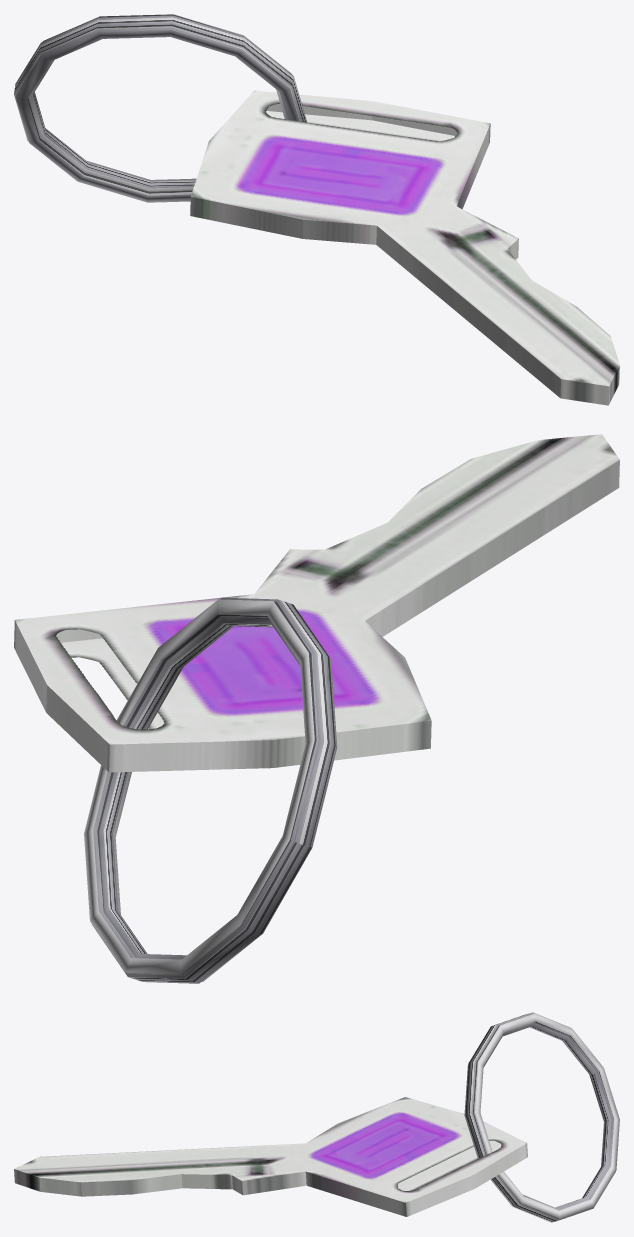
File: key_square2.fbx
3 views of the same model, one above another, from view 1: azimuth 30°, elevation 25°; view 2: azimuth 150°, elevation 25°; view 3: azimuth 270°, elevation 25° (orthographic). The views are drawn at different scales.
Parts seen in each view (by area): view 1: key_square2; view 2: key_square2; view 3: key_square2.
Part boxes in pixels (bbox=[...]): key_square2: bbox=[14, 14, 619, 405]; key_square2: bbox=[14, 434, 619, 983]; key_square2: bbox=[14, 1012, 619, 1222].
Size of the model in its own units: 11.56 by 7.68 by 24.34.
1 material, 1 textured.
